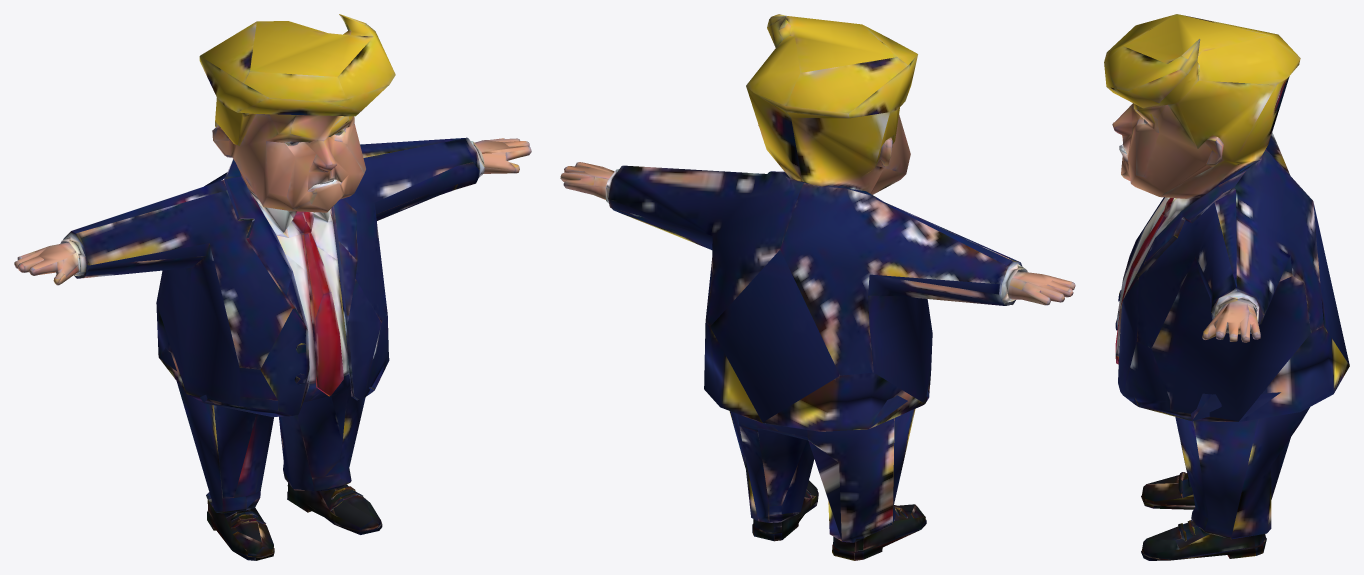
The model's file is trump-statue.lod.glb.
3 renders of one model, left to right at view 1: azimuth 30°, elevation 25°; view 2: azimuth 150°, elevation 25°; view 3: azimuth 270°, elevation 25°, orthographic. The views are drawn at different scales.
Visible parts, largest first — view 1: tripo_node_f8a496f6-d518-44c0-a2a4-d6c005554d59; view 2: tripo_node_f8a496f6-d518-44c0-a2a4-d6c005554d59; view 3: tripo_node_f8a496f6-d518-44c0-a2a4-d6c005554d59.
Boxes of the visible parts, bbox=[...] form: tripo_node_f8a496f6-d518-44c0-a2a4-d6c005554d59: bbox=[14, 14, 531, 560]; tripo_node_f8a496f6-d518-44c0-a2a4-d6c005554d59: bbox=[560, 14, 1075, 560]; tripo_node_f8a496f6-d518-44c0-a2a4-d6c005554d59: bbox=[1104, 14, 1349, 560].
Bounding box in the file's own units: 2.88 × 2.7 × 1.17.
1 material, 1 textured.
